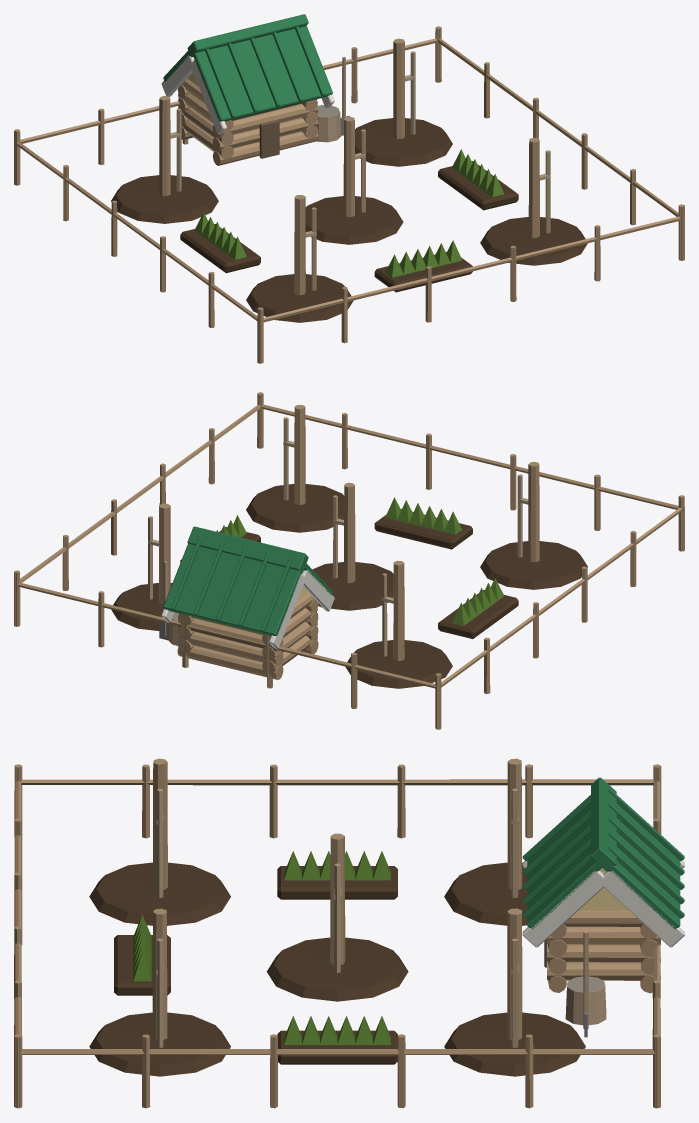
The model's file is bld_roshcha_e2.glb.
3 views of the same model, one above another, from view 1: azimuth 30°, elevation 25°; view 2: azimuth 150°, elevation 25°; view 3: azimuth 270°, elevation 25° (orthographic). The views are drawn at different scales.
Parts seen in each view (by area): view 1: roshcha; view 2: roshcha; view 3: roshcha.
Part boxes in pixels (bbox=[...]): roshcha: bbox=[14, 14, 684, 363]; roshcha: bbox=[14, 392, 684, 729]; roshcha: bbox=[14, 758, 684, 1108].
Size of the model in its own units: 1.82 by 0.5087 by 1.89.
